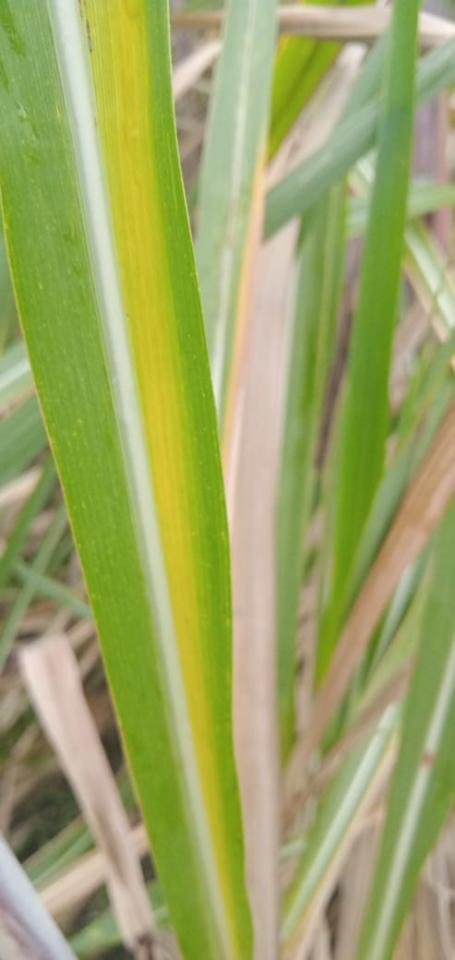Yellow: (80, 0, 252, 959), (220, 142, 262, 475)
